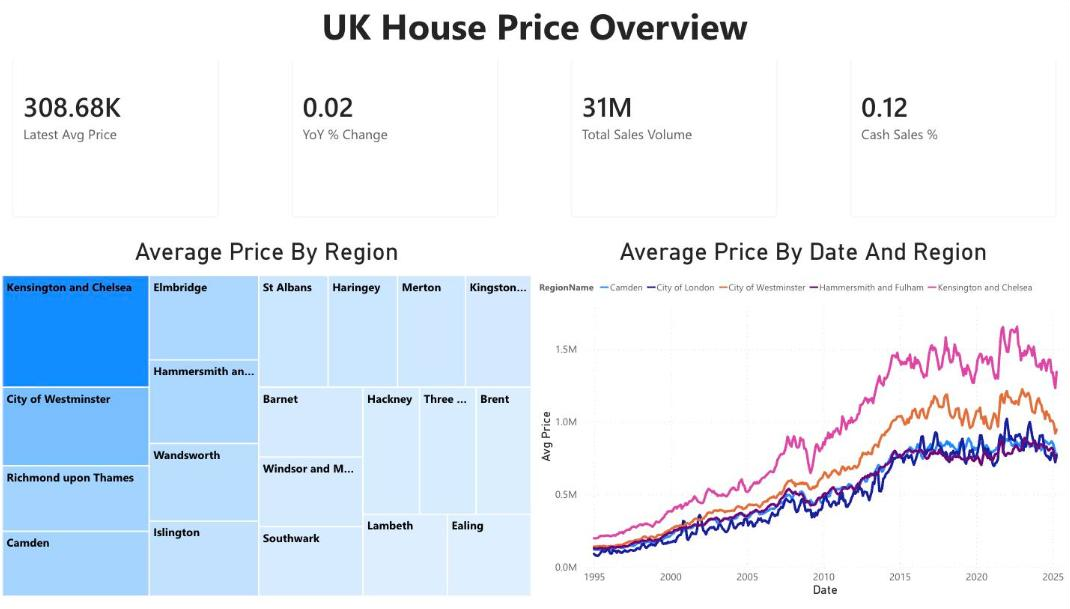

The dashboard page shown, as its layout file describes it:
{"tool":"powerbi","page":{"name":"UK House Price Overview","canvas":[1280,720],"ordinal":0},"visuals":[{"type":"cardVisual","fields":{"Data":["HPI.Latest Avg Price"]},"box":[0,0,280,280],"z":0},{"type":"cardVisual","fields":{"Data":["HPI.YoY % Change"]},"box":[333.3,0,280,280],"z":1000},{"type":"cardVisual","fields":{"Data":["HPI.Total Sales Volume"]},"box":[666.6,0,280,280],"z":2000},{"type":"cardVisual","fields":{"Data":["HPI.Cash Sales %"]},"box":[1000,0,280,280],"z":3000},{"type":"treemap","title":"Average Price By Region","fields":{"Group":["HPI.RegionName"],"Values":["HPI.Latest Avg Price"]},"box":[0,289.6,640.7,430.3],"z":4000},{"type":"lineChart","title":"Average Price By Date And Region","fields":{"Category":["DateTable.Date"],"Series":["HPI.RegionName"],"Y":["HPI.Avg Price"]},"box":[640.7,289.6,640,430.3],"z":5000},{"type":"textbox","box":[0,0,1280,75.1],"z":6000}]}

Visuals, with their boxes in screenshot pixels (x1, y1, x2, y2), scaled from the page's 1280x720 canvas onto the 1070x609 screenshot:
cardVisual - HPI.Latest Avg Price: <bbox>0, 0, 234, 237</bbox>
cardVisual - HPI.YoY % Change: <bbox>279, 0, 513, 237</bbox>
cardVisual - HPI.Total Sales Volume: <bbox>557, 0, 791, 237</bbox>
cardVisual - HPI.Cash Sales %: <bbox>836, 0, 1069, 237</bbox>
"Average Price By Region" treemap: <bbox>0, 245, 536, 608</bbox>
"Average Price By Date And Region" lineChart: <bbox>536, 245, 1069, 608</bbox>
textbox: <bbox>0, 0, 1069, 64</bbox>
